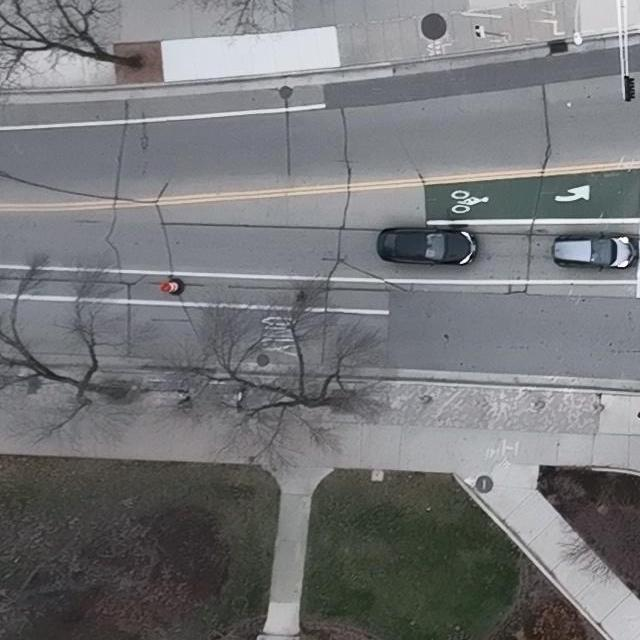car: (377, 227, 479, 265), (554, 233, 639, 272)
